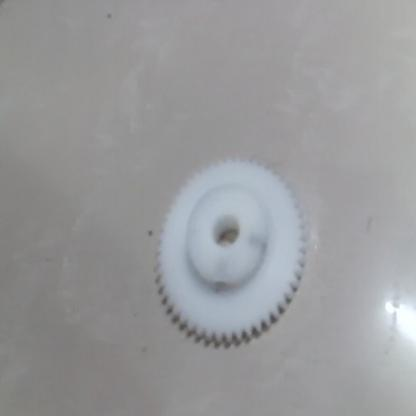FOD: (147, 155, 323, 349)
